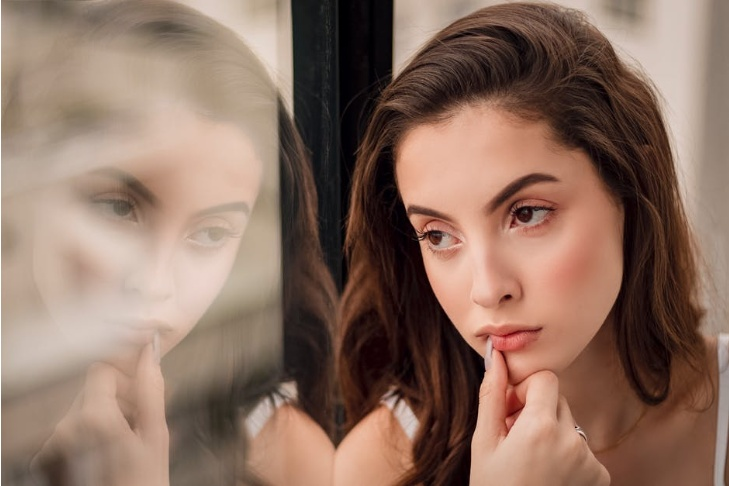face: (396, 114, 628, 381)
